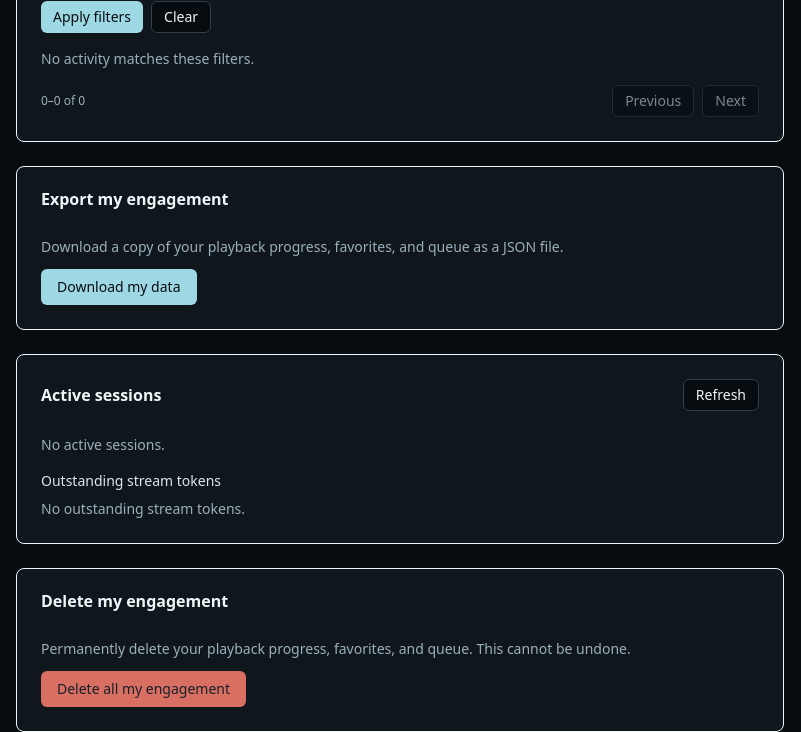
Test: MyDataPage delete › retries deleteMyEngagement with the Reveal PIN when required
(page scrolled)
Click the button "Delete all my engagement". click: (144, 689)
box: [41,671,246,707]
(page scrolled)
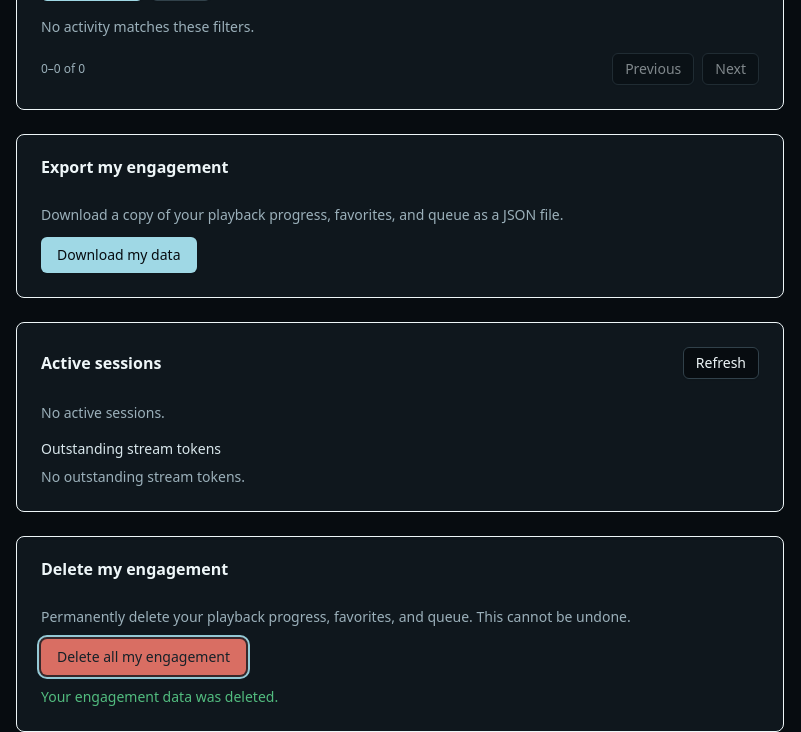
Result: the text "Your engagement data was deleted." is shown at [41,687,278,706]
